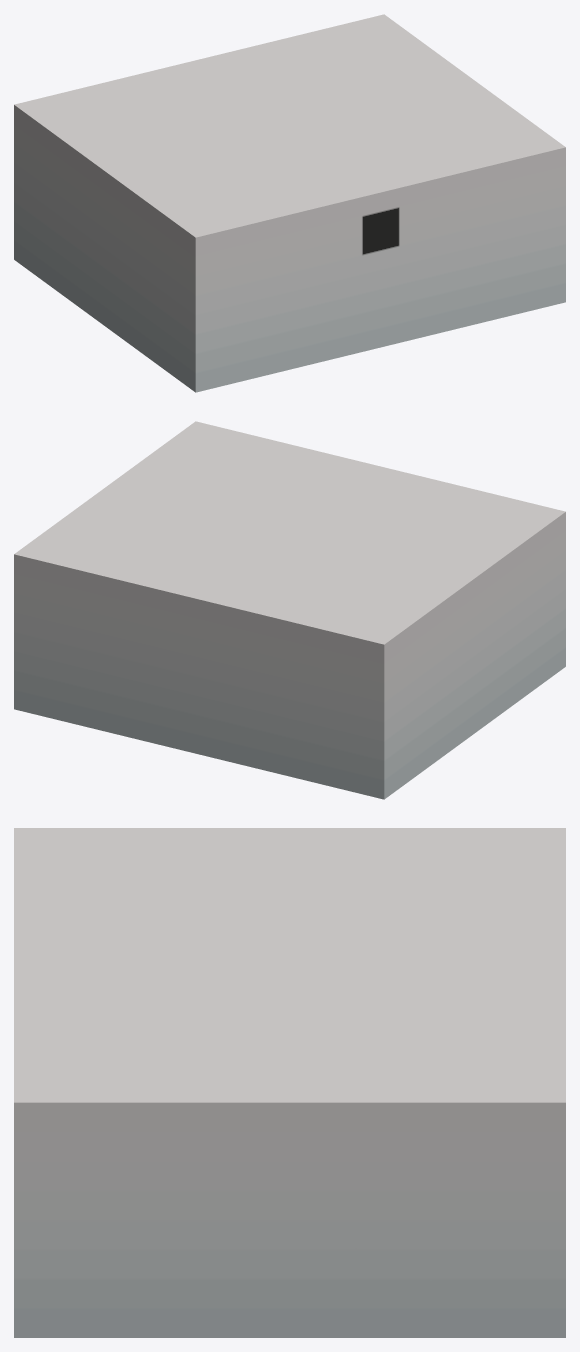
3 renders of one model, top to bottom at view 1: azimuth 30°, elevation 25°; view 2: azimuth 150°, elevation 25°; view 3: azimuth 270°, elevation 25°, orthographic. The views are drawn at different scales.
Parts seen in each view (by area): view 1: Root062; view 2: Root062; view 3: Root062.
Boxes of the visible parts, x1=… form: Root062: x1=14, y1=14, x2=565, y2=392; Root062: x1=14, y1=421, x2=565, y2=799; Root062: x1=14, y1=828, x2=565, y2=1337.
Size of the model in its own units: 20 by 8 by 17.
